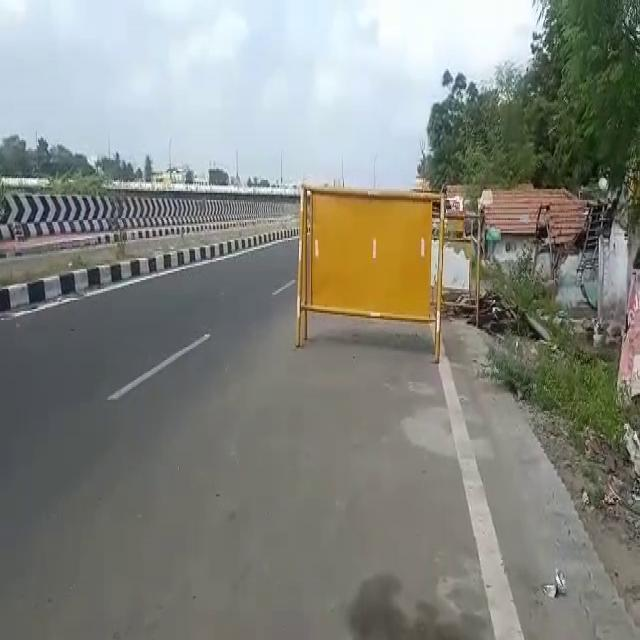fallen_object: (282, 182, 472, 371)
